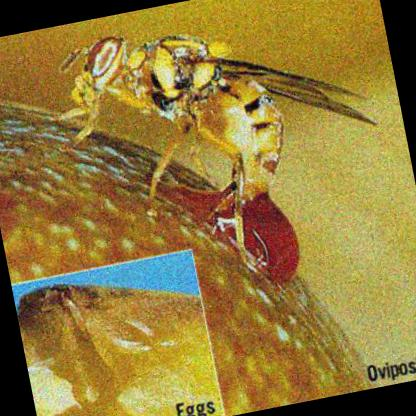fruit fly: (57, 31, 382, 238)
